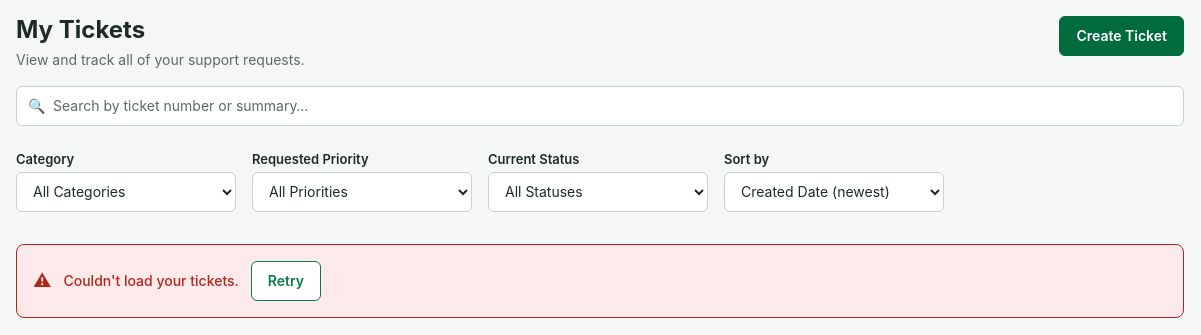
Test case: UI-35 — Error state › hides error banner after successful retry
Expected: the text "Couldn't load your tickets." is shown, [64,270,239,292]
Click the button "Retry". click: click(286, 281)
box: [251,261,321,301]
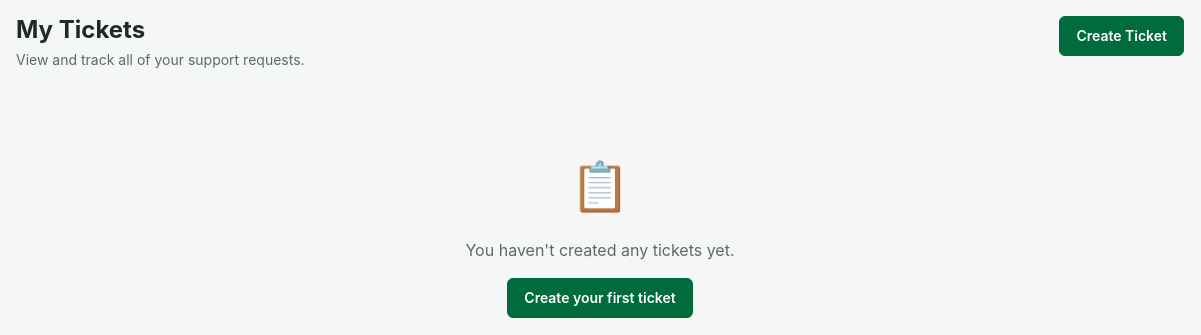
Result: the text "Couldn't load your tickets." is gone
